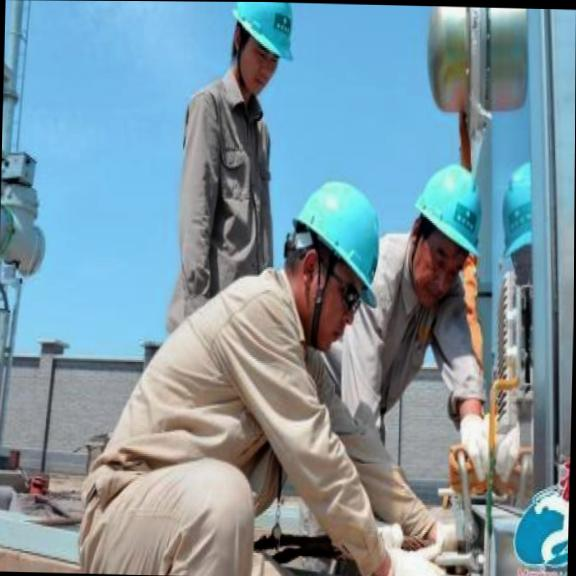no_safety_vest: (104, 264, 319, 558), (332, 231, 485, 428), (173, 75, 285, 297)
